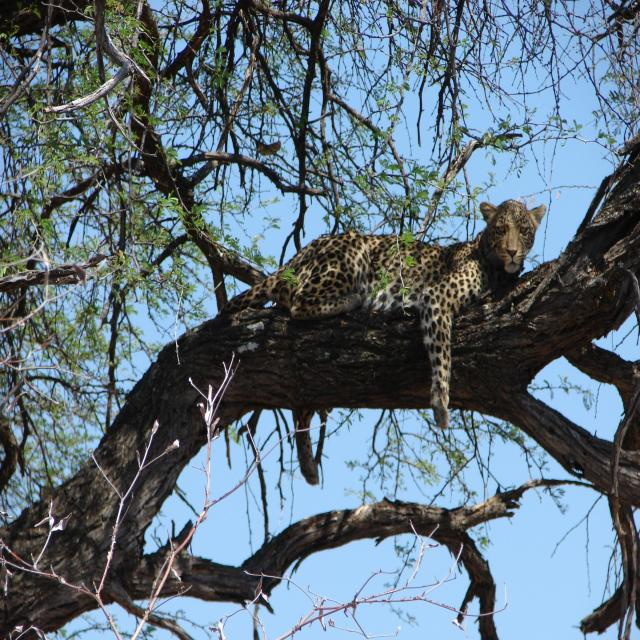Leopard: (218, 196, 541, 518)
